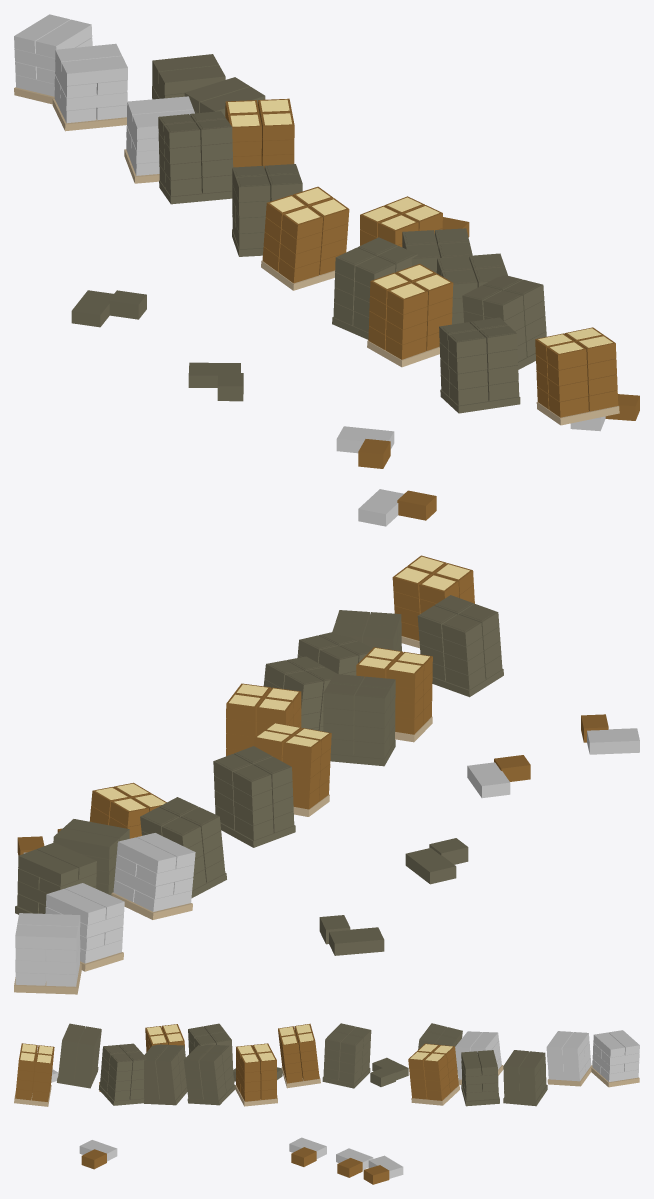
The model's file is SM_CargaViveres_Destrozado_LOD0.fbx.
3 renders of one model, top to bottom at view 1: azimuth 30°, elevation 25°; view 2: azimuth 150°, elevation 25°; view 3: azimuth 270°, elevation 25°, orthographic. The views are drawn at different scales.
Visible parts, largest first — view 1: SM_carga_vagon_v19_LOD0; view 2: SM_carga_vagon_v19_LOD0; view 3: SM_carga_vagon_v19_LOD0.
Boxes of the visible parts, bbox=[...] form: SM_carga_vagon_v19_LOD0: bbox=[14, 14, 639, 526]; SM_carga_vagon_v19_LOD0: bbox=[14, 555, 639, 994]; SM_carga_vagon_v19_LOD0: bbox=[14, 1023, 639, 1184].
Size of the model in its own units: 8.2 by 2.67 by 18.16.
